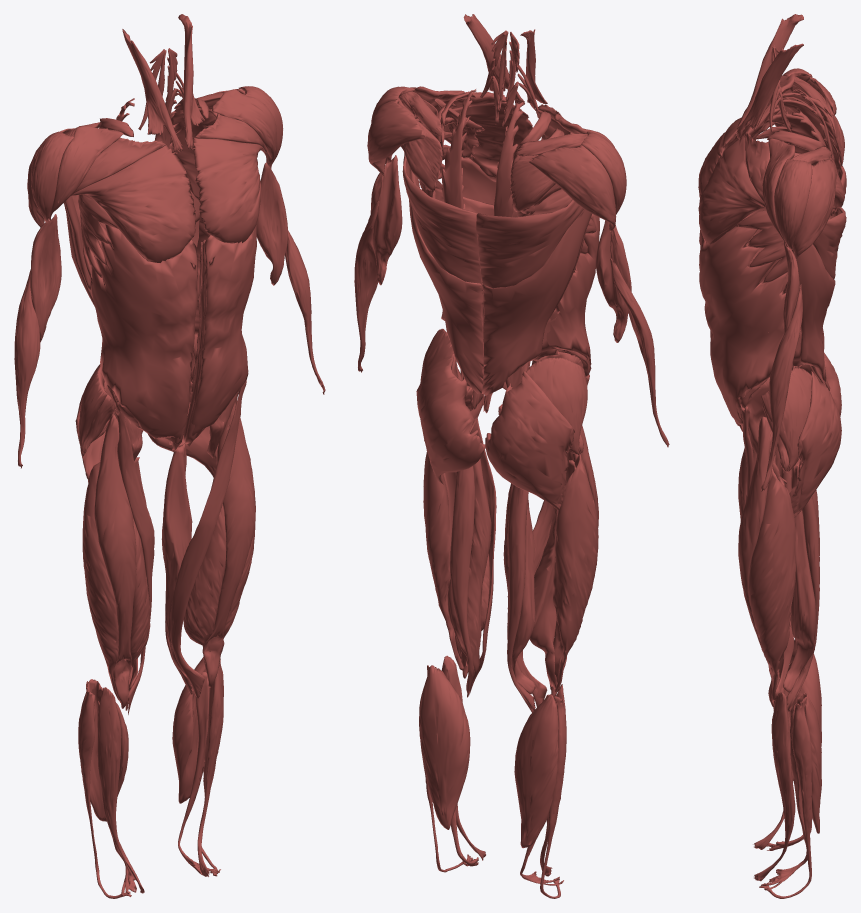
The model's file is muscular-balanced.glb.
3 renders of one model, left to right at view 1: azimuth 30°, elevation 25°; view 2: azimuth 150°, elevation 25°; view 3: azimuth 270°, elevation 25°, orthographic. The views are drawn at different scales.
Parts seen in each view (by area): view 1: za.external-abdominal-oblique-muscle-r, za.sternocostal-head-of-pectoralis-major-muscle-r, za.external-abdominal-oblique-muscle-l, za.rectus-femoris-muscle-r, za.sternocostal-head-of-pectoralis-major-muscle-l, za.rectus-femoris-muscle-l, za.sartorius-muscle-l, za.vastus-lateralis-muscle-r, za.semimembranosus-muscle-l, za.vastus-medialis-muscle-l, za.tibialis-anterior-muscle-r, za.sartorius-muscle-r (+30 smaller); view 2: za.latissimus-dorsi-muscle-r, za.latissimus-dorsi-muscle-l, za.gluteus-maximus-muscle-r, za.vastus-lateralis-muscle-r, za.soleus-muscle-l, za.gluteus-maximus-muscle-l, za.soleus-muscle-r, za.scapular-spinal-part-of-deltoid-muscle-r, za.semitendinosus-muscle-l, za.semimembranosus-muscle-l, za.external-abdominal-oblique-muscle-r, za.vastus-lateralis-muscle-l (+31 smaller); view 3: za.external-abdominal-oblique-muscle-l, za.vastus-lateralis-muscle-l, za.latissimus-dorsi-muscle-l, za.sternocostal-head-of-pectoralis-major-muscle-l, za.gluteus-maximus-muscle-l, za.semimembranosus-muscle-l, za.rectus-femoris-muscle-l, za.serratus-anterior-muscle-l, za.brachioradialis-muscle-l, za.acromial-part-of-deltoid-muscle-l, za.tibialis-anterior-muscle-l, za.scapular-spinal-part-of-deltoid-muscle-l (+26 smaller).
Part boxes in pixels (x1,y1,x2,y2): za.external-abdominal-oblique-muscle-r: (90, 224, 197, 438); za.sternocostal-head-of-pectoralis-major-muscle-r: (71, 145, 195, 262); za.external-abdominal-oblique-muscle-l: (191, 225, 256, 435); za.rectus-femoris-muscle-r: (94, 414, 136, 708); za.sternocostal-head-of-pectoralis-major-muscle-l: (193, 137, 262, 243); za.rectus-femoris-muscle-l: (202, 402, 255, 687); za.sartorius-muscle-l: (170, 380, 246, 698); za.vastus-lateralis-muscle-r: (82, 462, 119, 700); za.semimembranosus-muscle-l: (161, 443, 192, 674); za.vastus-medialis-muscle-l: (183, 504, 226, 670); za.tibialis-anterior-muscle-r: (97, 687, 144, 893); za.sartorius-muscle-r: (115, 409, 154, 714); za.latissimus-dorsi-muscle-r: (476, 199, 591, 395); za.latissimus-dorsi-muscle-l: (402, 152, 483, 393); za.gluteus-maximus-muscle-r: (485, 370, 574, 510); za.vastus-lateralis-muscle-r: (553, 453, 598, 692); za.soleus-muscle-l: (419, 665, 470, 829); za.gluteus-maximus-muscle-l: (416, 354, 485, 484); za.soleus-muscle-r: (514, 694, 558, 848); za.scapular-spinal-part-of-deltoid-muscle-r: (529, 144, 616, 231); za.semitendinosus-muscle-l: (450, 466, 474, 697); za.semimembranosus-muscle-l: (447, 458, 491, 675); za.external-abdominal-oblique-muscle-r: (546, 214, 599, 364); za.vastus-lateralis-muscle-l: (423, 452, 463, 670); za.external-abdominal-oblique-muscle-l: (699, 226, 787, 424); za.vastus-lateralis-muscle-l: (748, 466, 795, 701); za.latissimus-dorsi-muscle-l: (792, 207, 846, 382); za.sternocostal-head-of-pectoralis-major-muscle-l: (698, 136, 765, 244); za.gluteus-maximus-muscle-l: (789, 371, 841, 517); za.semimembranosus-muscle-l: (783, 462, 815, 692); za.rectus-femoris-muscle-l: (738, 416, 774, 707); za.serratus-anterior-muscle-l: (738, 130, 839, 294); za.brachioradialis-muscle-l: (761, 284, 802, 491); za.acromial-part-of-deltoid-muscle-l: (774, 159, 812, 250); za.tibialis-anterior-muscle-l: (754, 692, 795, 881); za.scapular-spinal-part-of-deltoid-muscle-l: (793, 159, 836, 259).
Size of the model in its own units: 0.5795 by 1.55 by 0.246.
